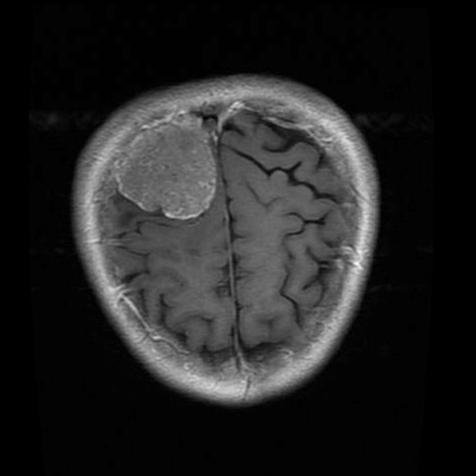Tumour-Meningioma: (97, 106, 230, 234)
